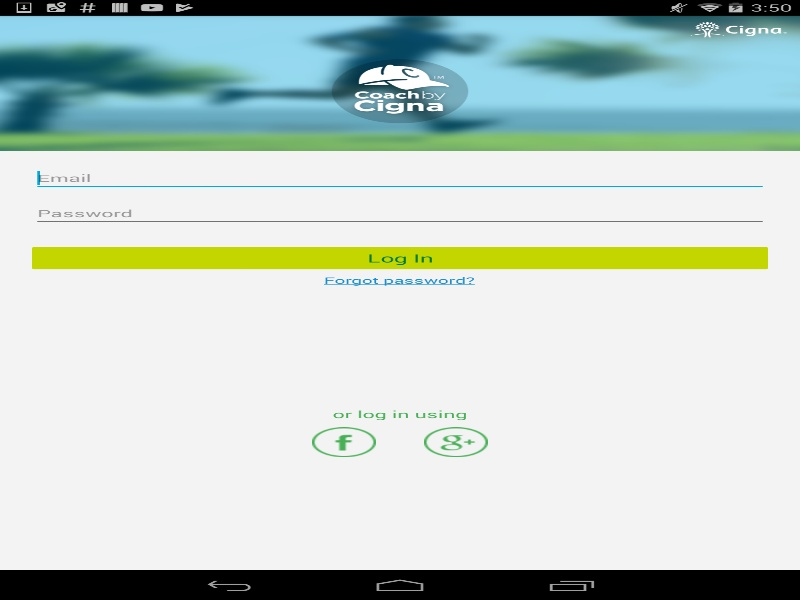Button: (32, 246, 768, 269)
Input: (32, 161, 768, 191), (32, 196, 768, 226)
